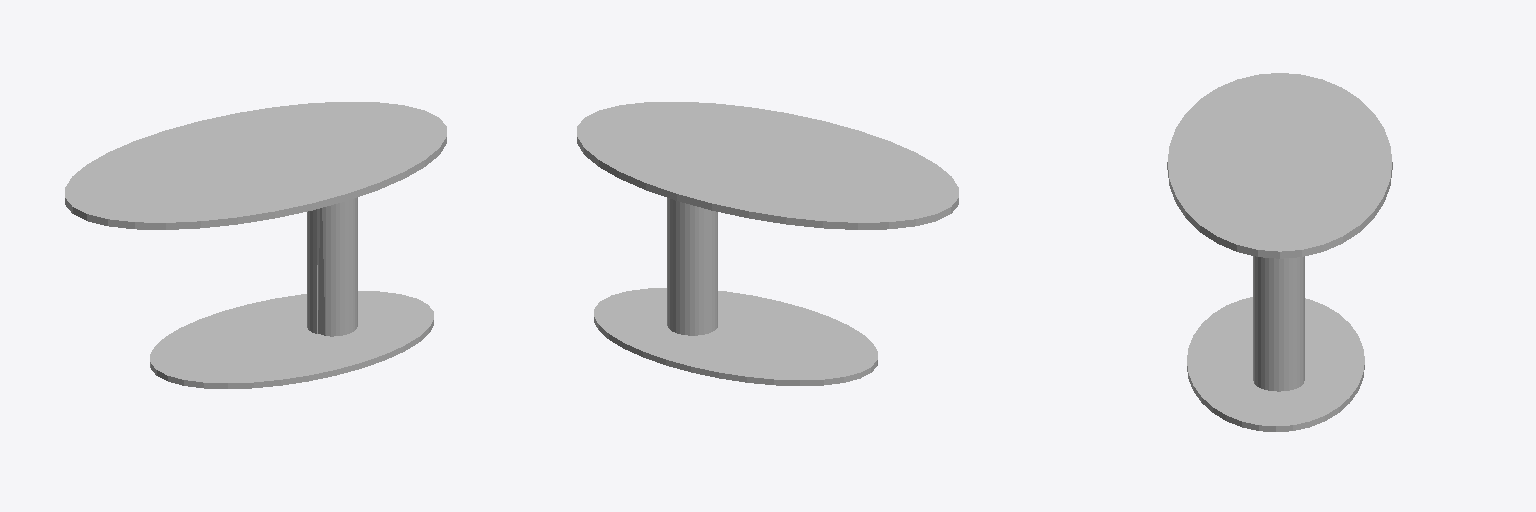
File: work table.obj
The picture shows the model from 3 angles: view 1: azimuth 30°, elevation 25°; view 2: azimuth 150°, elevation 25°; view 3: azimuth 270°, elevation 25°; orthographic projection.
Parts seen in each view (by area): view 1: Cylinder; view 2: Cylinder; view 3: Cylinder.
Boxes of the visible parts, <box> form: Cylinder: <box>65,102,446,388</box>; Cylinder: <box>577,102,958,385</box>; Cylinder: <box>1167,73,1392,431</box>.
Bounding box in the file's own units: 9.88 × 4.83 × 5.25.